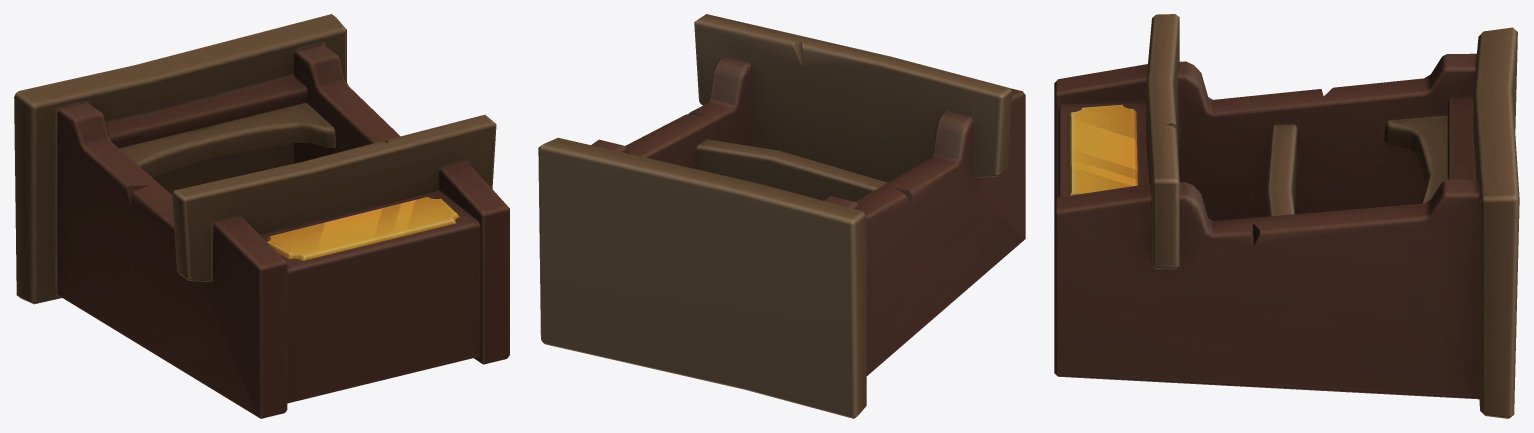
The model's file is SpookyBookCase.fbx.
3 renders of one model, left to right at view 1: azimuth 30°, elevation 25°; view 2: azimuth 150°, elevation 25°; view 3: azimuth 270°, elevation 25°, orthographic. The views are drawn at different scales.
Parts seen in each view (by area): view 1: SpookyBookCase; view 2: SpookyBookCase; view 3: SpookyBookCase.
Boxes of the visible parts, <box> form: SpookyBookCase: <box>14,14,509,418</box>; SpookyBookCase: <box>538,14,1025,418</box>; SpookyBookCase: <box>1054,14,1519,418</box>.
Size of the model in its own units: 138 by 89.54 by 158.
